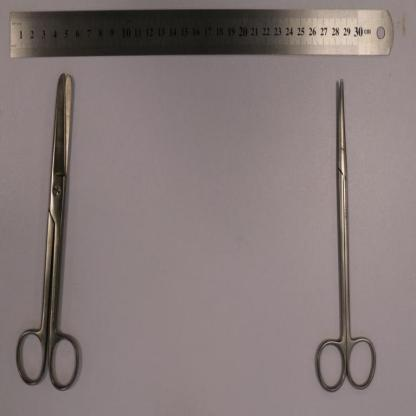7 Metzenbaum Scissors: (313, 79, 378, 394)
Dressing Scissors: (16, 70, 80, 393)
